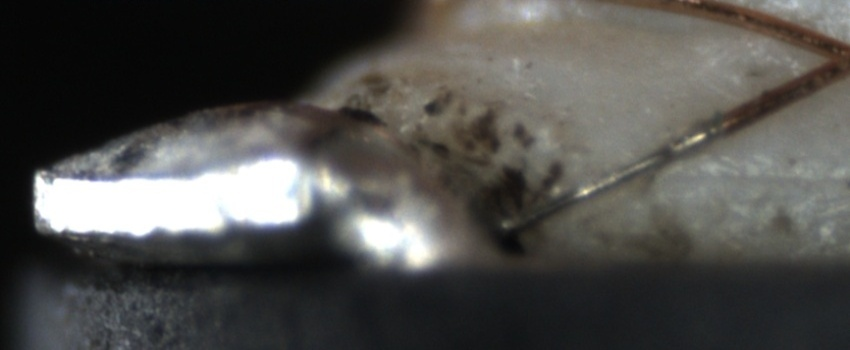CL: (804, 26, 849, 89)
DL: (684, 147, 849, 204)
TS: (499, 123, 723, 233)
TTCW: (500, 95, 762, 233)
